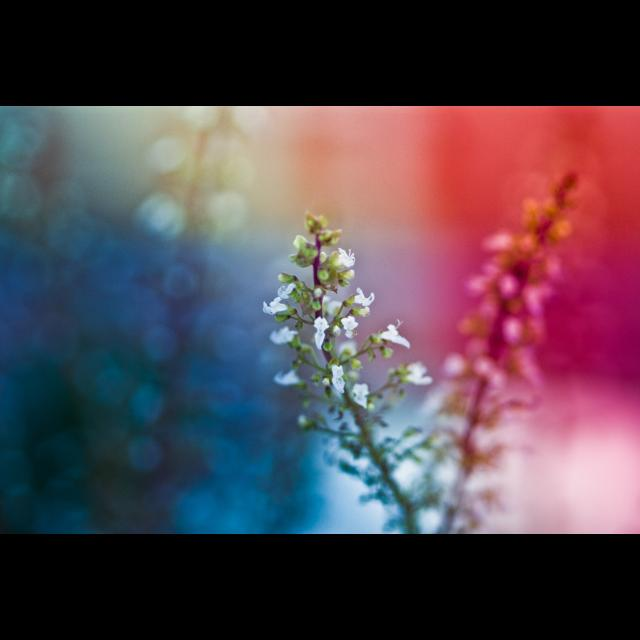Flower: (378, 319, 409, 346), (268, 326, 300, 346), (408, 359, 430, 385), (262, 295, 288, 315), (314, 314, 328, 348), (356, 282, 374, 308), (330, 363, 344, 395), (278, 368, 300, 388), (337, 246, 359, 266), (340, 315, 358, 337), (354, 385, 370, 409), (276, 285, 294, 299)
